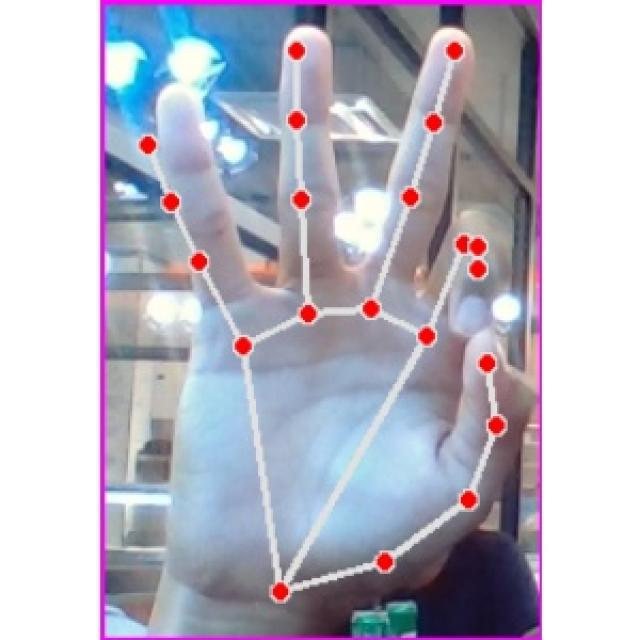F: (123, 15, 532, 613)
